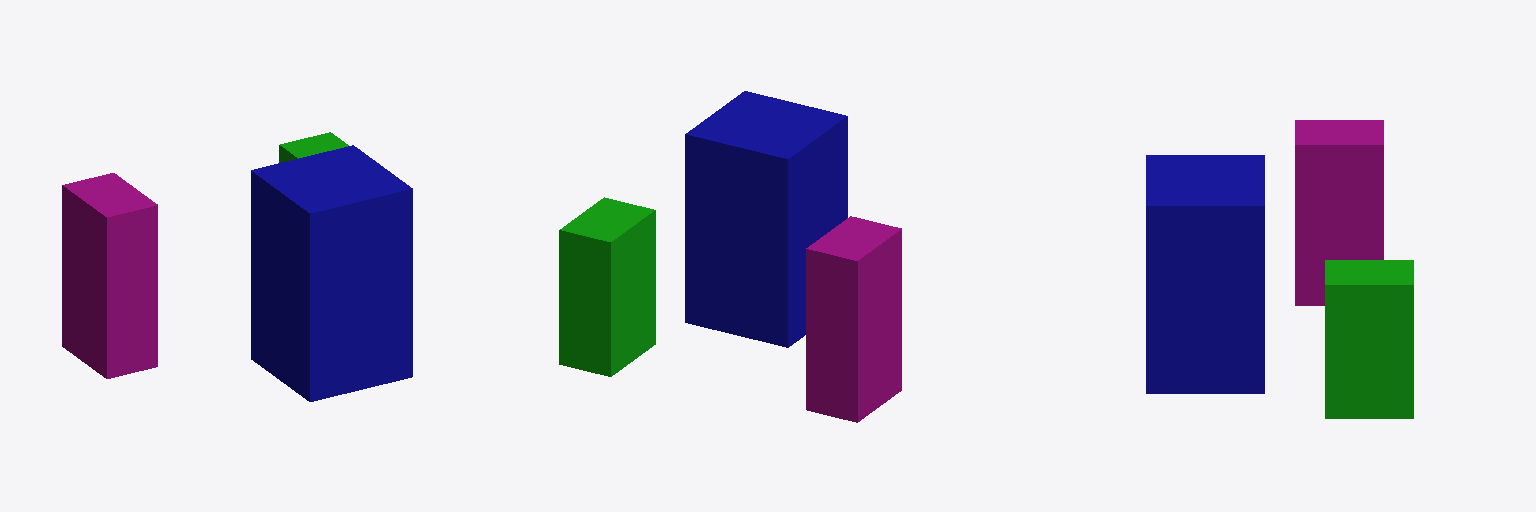
Rendered from test_multi.obj.
3 renders of one model, left to right at view 1: azimuth 30°, elevation 25°; view 2: azimuth 150°, elevation 25°; view 3: azimuth 270°, elevation 25°, orthographic.
Parts seen in each view (by area): view 1: Box001, Box002, Box003; view 2: Box001, Box002, Box003; view 3: Box001, Box003, Box002.
Boxes of the visible parts, box(x1,y1,x2,y2) form: Box001: box(251, 145, 412, 401); Box002: box(62, 173, 157, 378); Box003: box(279, 132, 348, 162); Box001: box(685, 91, 847, 347); Box002: box(806, 216, 901, 422); Box003: box(559, 197, 655, 376); Box001: box(1146, 155, 1264, 393); Box003: box(1325, 260, 1413, 418); Box002: box(1295, 120, 1383, 305).
Size of the model in its own units: 1100 by 700 by 900.